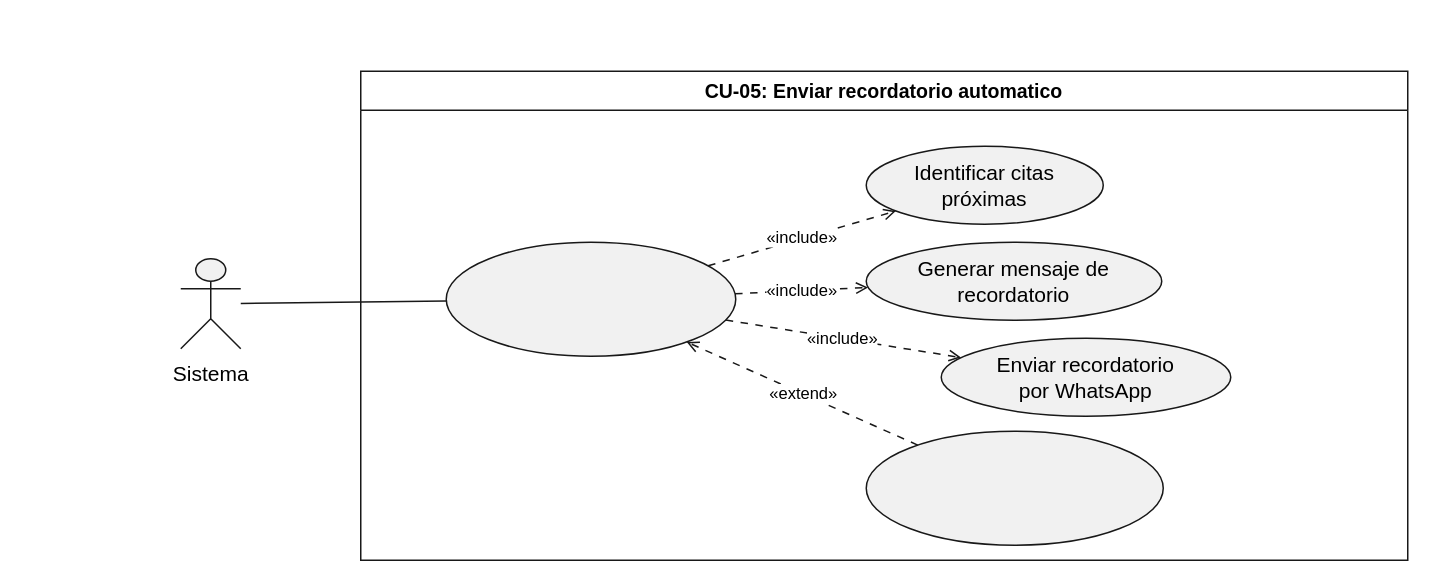
The diagram is 1434 pixels wide and 587 high, and some of its shapes have lost their labels. The box of each missing label's shape, as (x1, y1, x2, y2) in pixels:
CU-05 Enviar recordatorio automático: (445, 241, 736, 356)
CU-06 Confirmar, cancelar o reprogramar cita: (865, 430, 1163, 545)
